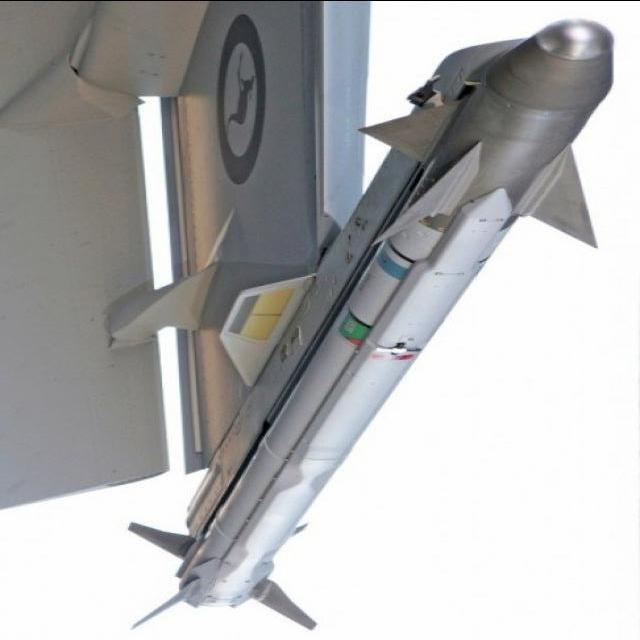missile: (160, 0, 637, 640)
